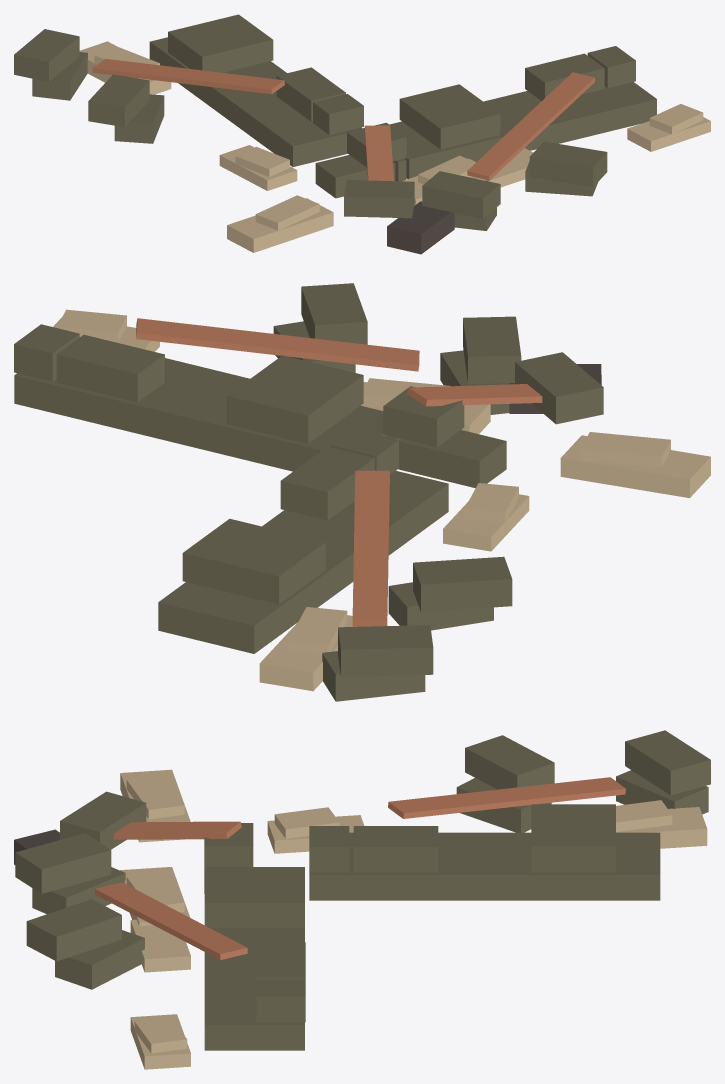
Rendered from SM_SacosEsquina_v3_Tablon_e2_MuyDanado_LOD1.fbx.
The picture shows the model from 3 angles, top to bottom: view 1: azimuth 30°, elevation 25°; view 2: azimuth 150°, elevation 25°; view 3: azimuth 270°, elevation 25°; orthographic projection. The views are drawn at different scales.
Visible parts, largest first — view 1: SM_sacos_piezas_v14_LOD1; view 2: SM_sacos_piezas_v14_LOD1; view 3: SM_sacos_piezas_v14_LOD1.
Part boxes in pixels (x1,y1,x2,y2): SM_sacos_piezas_v14_LOD1: (14, 14, 710, 254); SM_sacos_piezas_v14_LOD1: (14, 283, 710, 701); SM_sacos_piezas_v14_LOD1: (14, 730, 710, 1069).
Size of the model in its own units: 6.57 by 0.6798 by 6.67.
